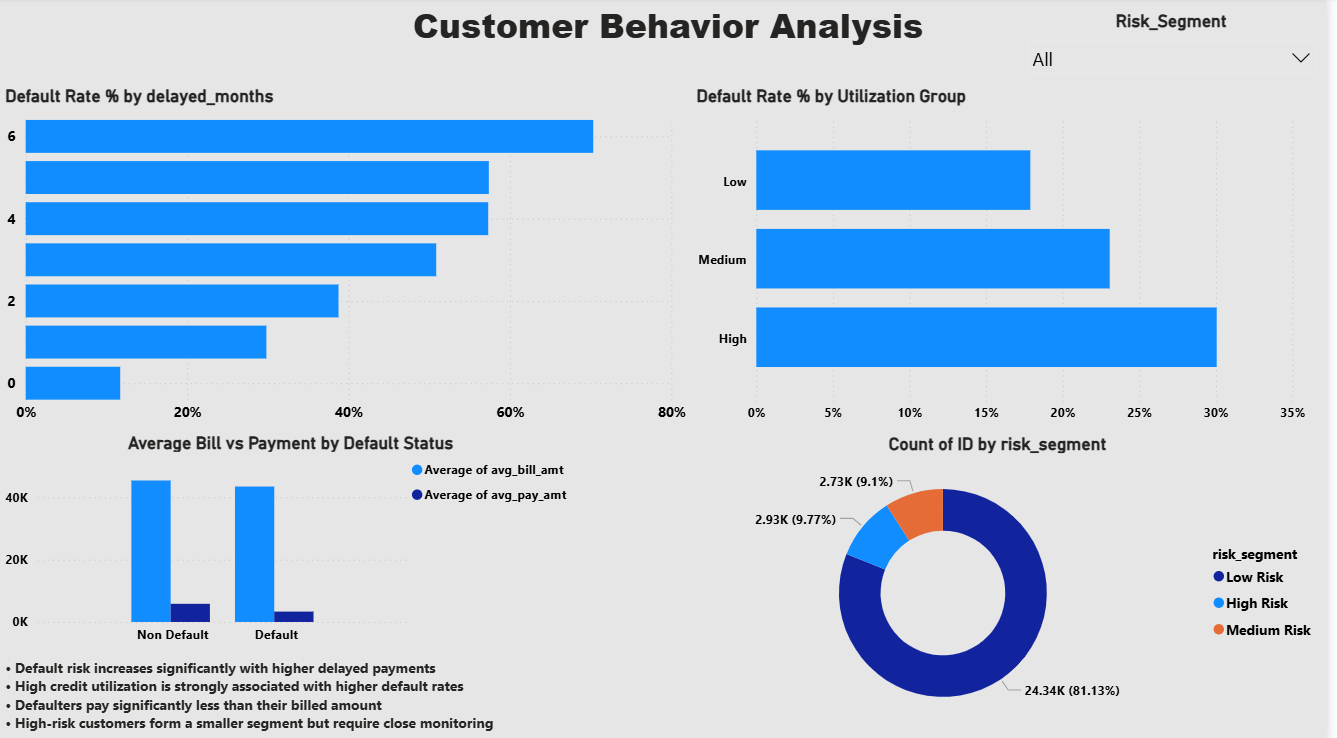

Layout of this report page (visuals, bound fields, positions):
{"tool":"powerbi","page":{"name":"BEHAVIOR ANALYSIS","canvas":[1280,720],"ordinal":2},"visuals":[{"type":"textbox","box":[9.7,0,1270.4,59.1],"z":0},{"type":"barChart","fields":{"Category":["credit_card_risk_analysis credit_card_clean.delayed_months"],"Y":["credit_card_risk_analysis credit_card_clean.Default Rate %"]},"box":[0,85.7,667.2,334.2],"z":1},{"type":"clusteredColumnChart","title":"Average Bill vs Payment by Default Status","fields":{"Category":["credit_card_risk_analysis credit_card_clean.Default Status"],"Y":["Avg(credit_card_risk_analysis credit_card_clean.avg_bill_amt)","Avg(credit_card_risk_analysis credit_card_clean.avg_pay_amt)"]},"box":[0,419.8,561,213.5],"z":2},{"type":"donutChart","fields":{"Category":["credit_card_risk_analysis credit_card_clean.risk_segment"],"Y":["CountNonNull(credit_card_risk_analysis credit_card_clean.ID)"]},"box":[645.4,421,634.6,289.5],"z":3},{"type":"slicer","title":"Risk_Segment","fields":{"Values":["credit_card_risk_analysis credit_card_clean.risk_segment"]},"box":[980.8,13.3,299.2,72.4],"z":4},{"type":"barChart","fields":{"Category":["credit_card_risk_analysis credit_card_clean.Utilization Group"],"Y":["credit_card_risk_analysis credit_card_clean.Default Rate %"]},"box":[667.2,85.7,598.4,334.2],"z":5},{"type":"textbox","box":[0,633.4,1280,86.9],"z":6}]}

Visuals, with their boxes in screenshot pixels (x1, y1, x2, y2), scaled from the page's 1280x720 canvas onto the 1337x738 screenshot:
textbox: crop(10, 0, 1336, 61)
barChart - credit_card_risk_analysis credit_card_clean.delayed_months x credit_card_risk_analysis credit_card_clean.Default Rate %: crop(0, 88, 697, 430)
"Average Bill vs Payment by Default Status" clusteredColumnChart: crop(0, 430, 586, 649)
donutChart - credit_card_risk_analysis credit_card_clean.risk_segment x CountNonNull(credit_card_risk_analysis credit_card_clean.ID): crop(674, 432, 1336, 728)
"Risk_Segment" slicer: crop(1024, 14, 1336, 88)
barChart - credit_card_risk_analysis credit_card_clean.Utilization Group x credit_card_risk_analysis credit_card_clean.Default Rate %: crop(697, 88, 1322, 430)
textbox: crop(0, 649, 1336, 737)
